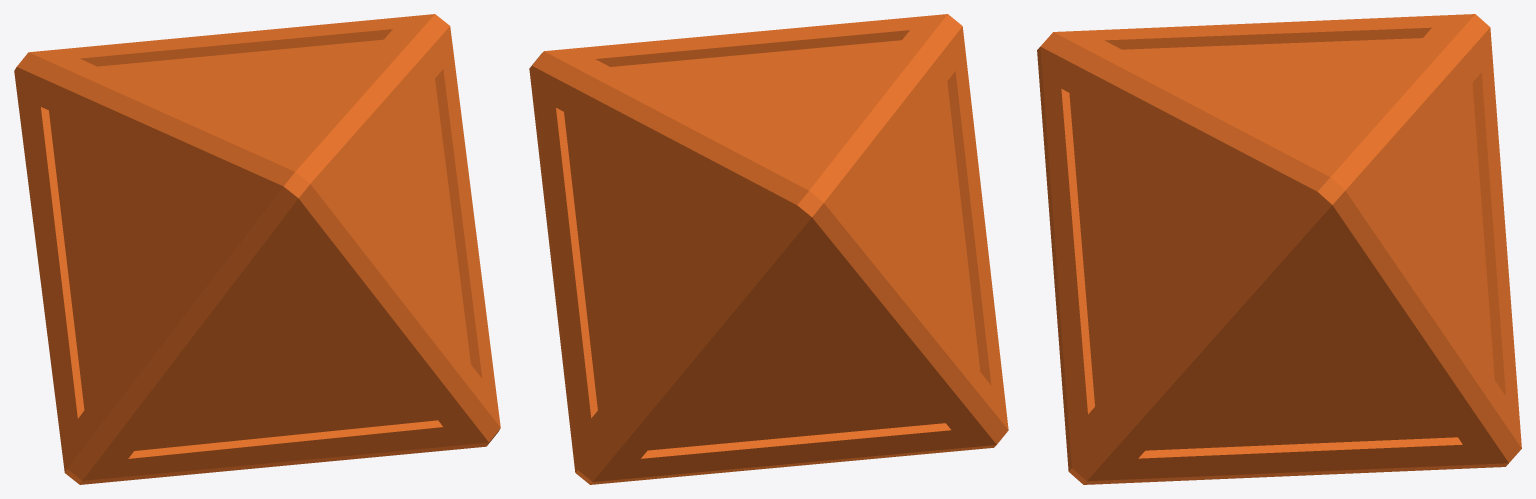
3 renders of one model, left to right at view 1: azimuth 30°, elevation 25°; view 2: azimuth 150°, elevation 25°; view 3: azimuth 270°, elevation 25°, orthographic. The views are drawn at different scales.
Visible parts, largest first — view 1: Barril.005; view 2: Barril.005; view 3: Barril.005.
Boxes of the visible parts, x1=… form: Barril.005: x1=14, y1=14, x2=500, y2=484; Barril.005: x1=529, y1=14, x2=1008, y2=484; Barril.005: x1=1037, y1=14, x2=1521, y2=484.
Size of the model in its own units: 0.2396 by 0.1854 by 0.2245.
